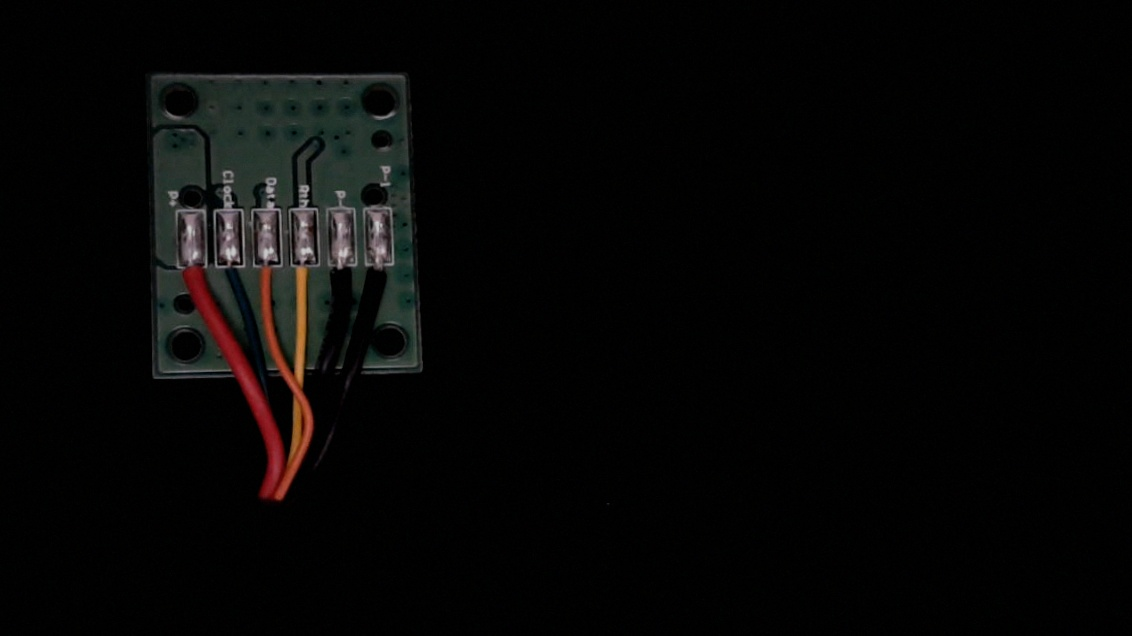Black: (325, 251, 358, 310)
Black1: (365, 249, 397, 311)
Green: (215, 251, 247, 307)
Orange: (250, 250, 283, 304)
Red: (175, 253, 209, 317)
Yellow: (289, 248, 318, 308)
